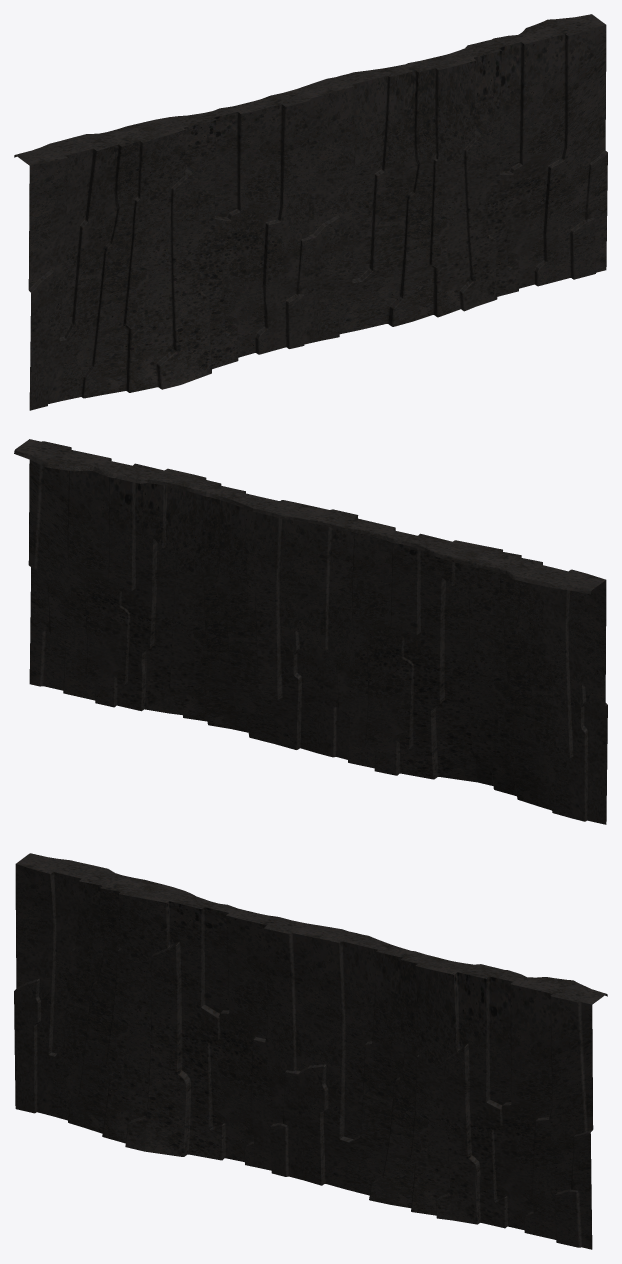
File: CaveCliffL.fbx
3 views of the same model, one above another, from view 1: azimuth 30°, elevation 25°; view 2: azimuth 150°, elevation 25°; view 3: azimuth 330°, elevation 25° (orthographic).
Parts seen in each view (by area): view 1: SM_ENV_NATURE_Cave_Wall_L_20m.mo; view 2: SM_ENV_NATURE_Cave_Wall_L_20m.mo; view 3: SM_ENV_NATURE_Cave_Wall_L_20m.mo.
Part boxes in pixels (x1,y1,x2,y2): SM_ENV_NATURE_Cave_Wall_L_20m.mo: [14, 14, 607, 410]; SM_ENV_NATURE_Cave_Wall_L_20m.mo: [14, 439, 607, 824]; SM_ENV_NATURE_Cave_Wall_L_20m.mo: [14, 853, 607, 1249].
Size of the model in its own units: 2000 by 815 by 198.
2 materials, 2 textured.
